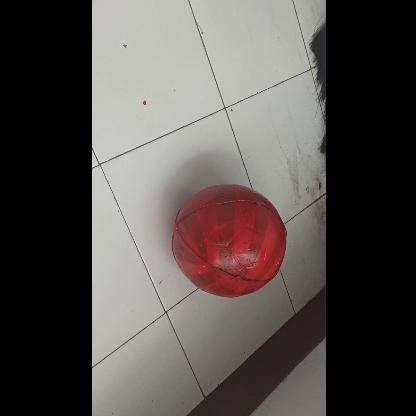red_ball: (172, 182, 288, 298)
